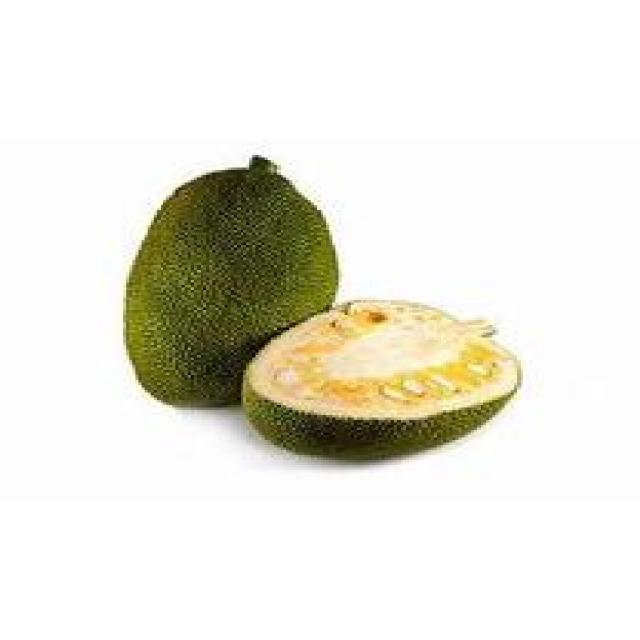Fruit: (108, 140, 357, 422), (224, 275, 550, 477)
